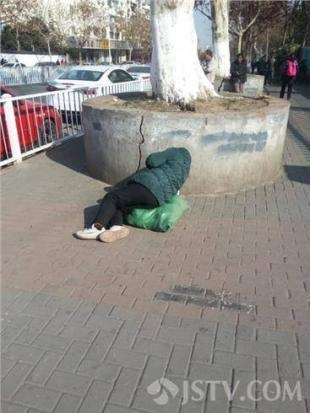falling: (63, 140, 202, 244)
